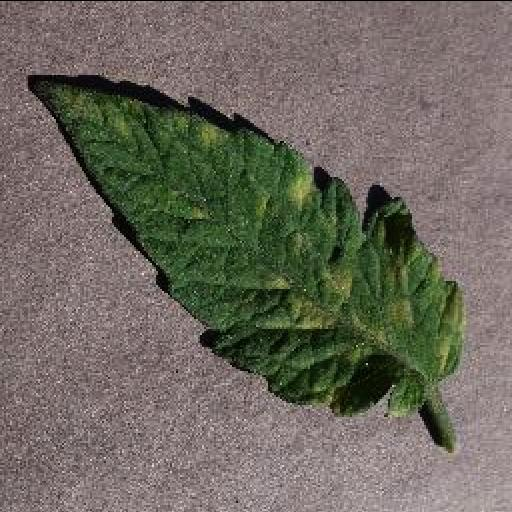disease_tomato: (26, 78, 464, 414)
